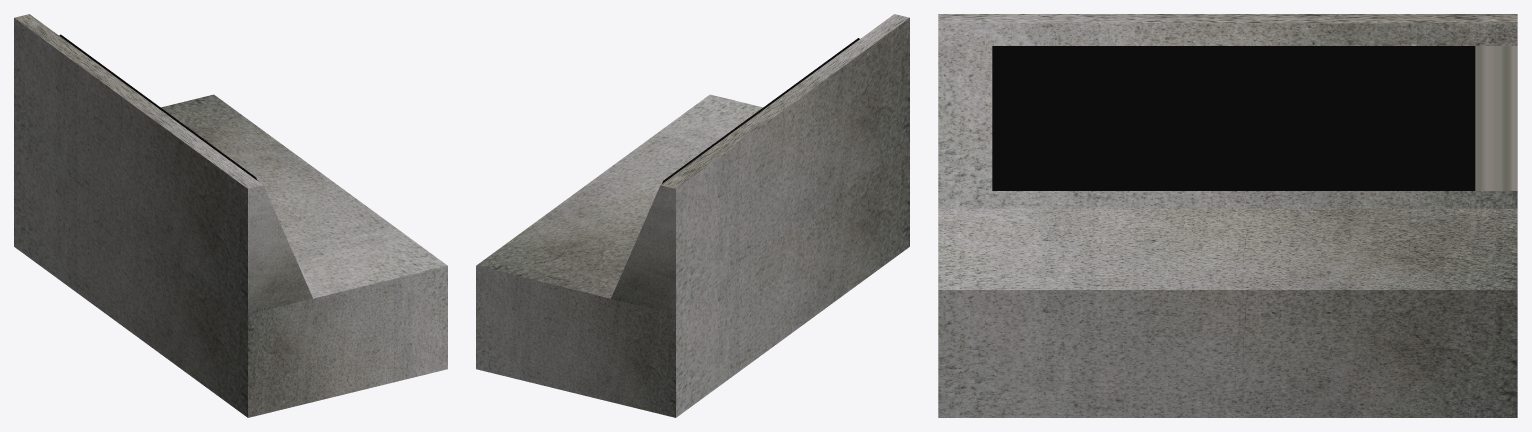
File: Panel_de_Control.fbx
The picture shows the model from 3 angles, left to right: view 1: azimuth 30°, elevation 25°; view 2: azimuth 150°, elevation 25°; view 3: azimuth 270°, elevation 25°; orthographic projection. The views are drawn at different scales.
Visible parts, largest first — view 1: Cube, Cube.001; view 2: Cube, Cube.001; view 3: Cube, Cube.001.
Part boxes in pixels (x1,y1,x2,y2): Cube: (14, 14, 447, 417); Cube.001: (59, 34, 257, 180); Cube: (476, 14, 909, 417); Cube.001: (662, 38, 859, 183); Cube: (938, 14, 1517, 417); Cube.001: (992, 46, 1475, 190).
Size of the model in its own units: 676 by 740 by 1371.
